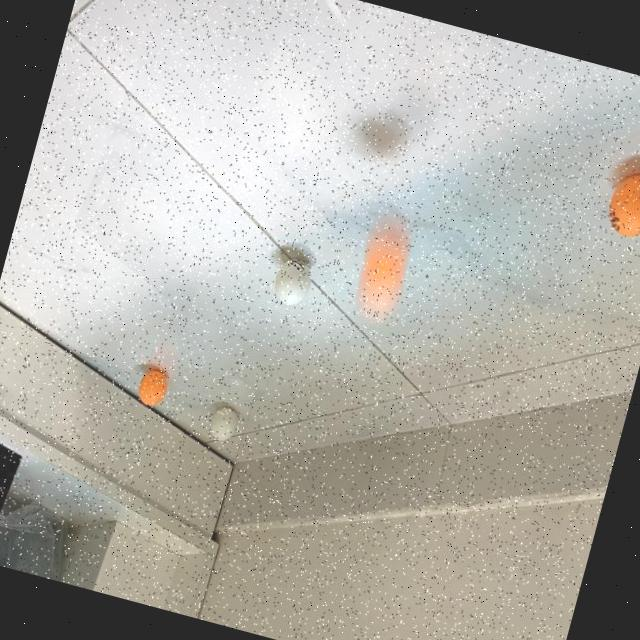ping-pong-ball: (353, 218, 417, 312), (604, 166, 640, 238), (270, 254, 316, 308), (136, 365, 172, 406), (208, 403, 242, 441)
